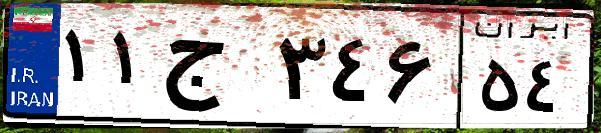1: (57, 26, 110, 100), (110, 28, 158, 98)
3: (270, 28, 330, 110)
4: (330, 28, 385, 110), (525, 38, 570, 115)
5: (475, 38, 525, 113)
6: (385, 28, 445, 110)
ج: (158, 20, 270, 120)
